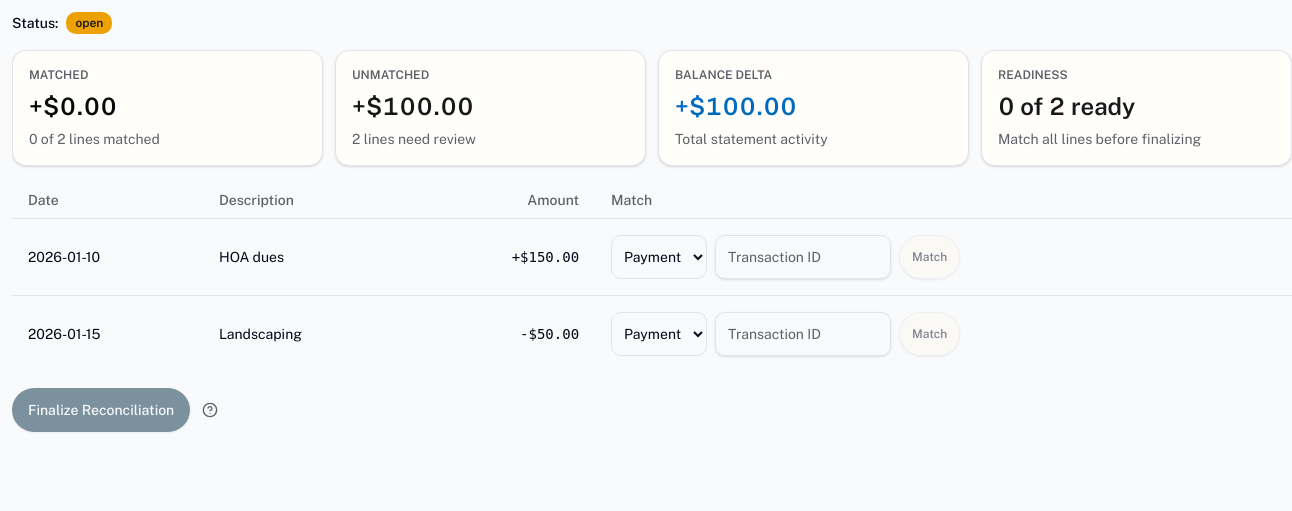
it: ReconcileGrid › shows persist error when addMatch fails
In the field named "Transaction ID for HOA dues": [803, 256] box [715,234,891,278], type "pay-1"
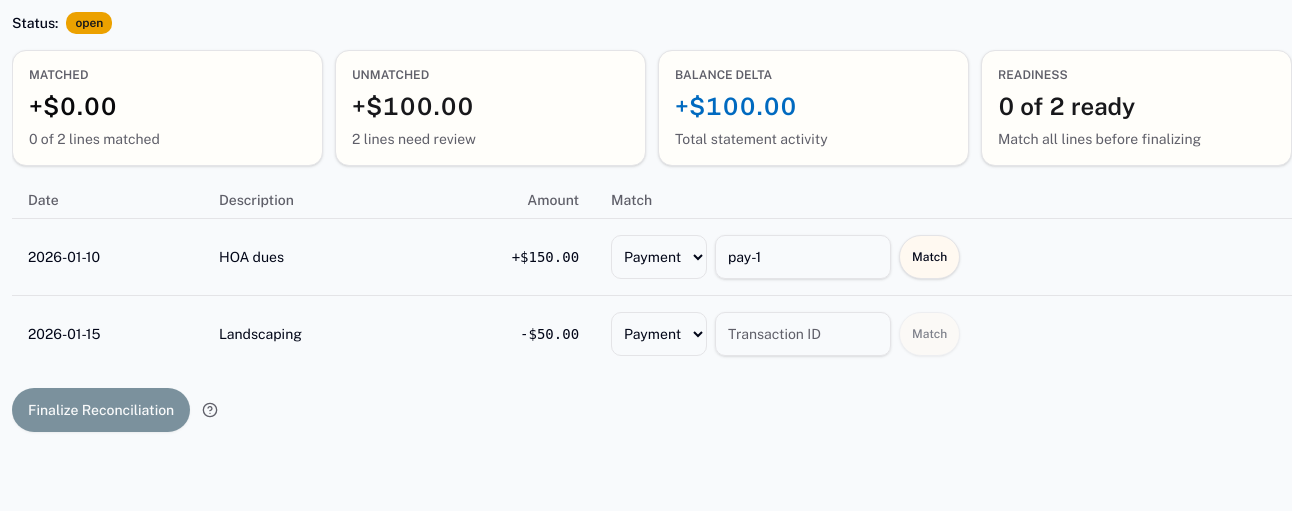
Click the button "Match" in the row of "2026-01-10": [930, 256] box [899,234,960,278]
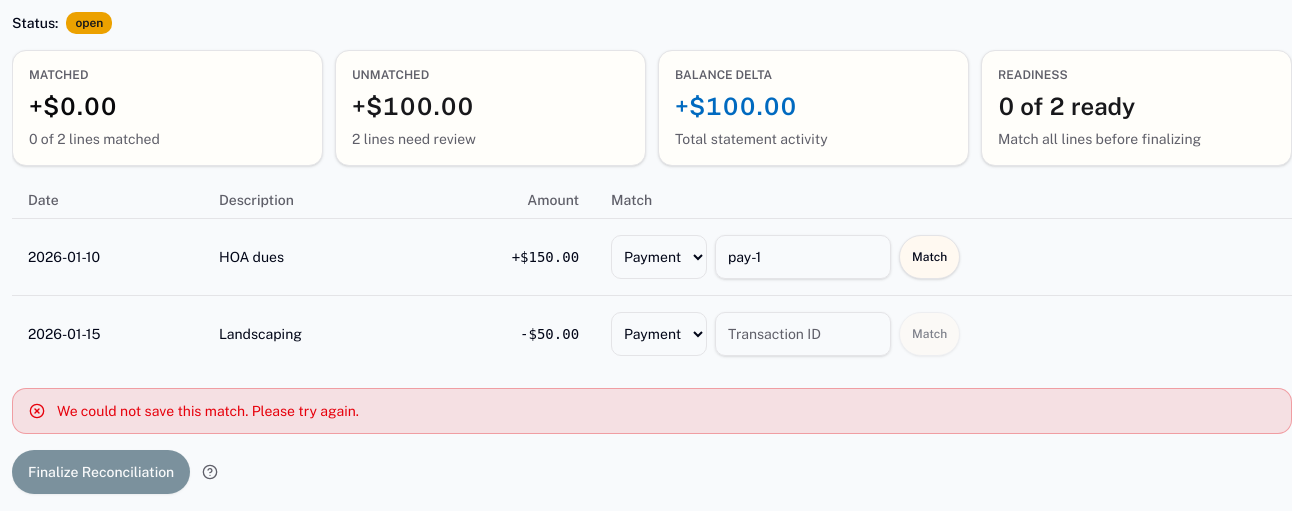
Result: the text "We could not save this match. Please try again." is shown at [12,388,1291,434]
